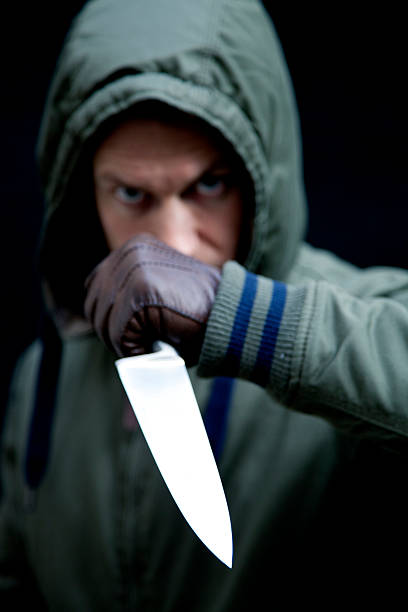knife: (113, 339, 237, 574)
